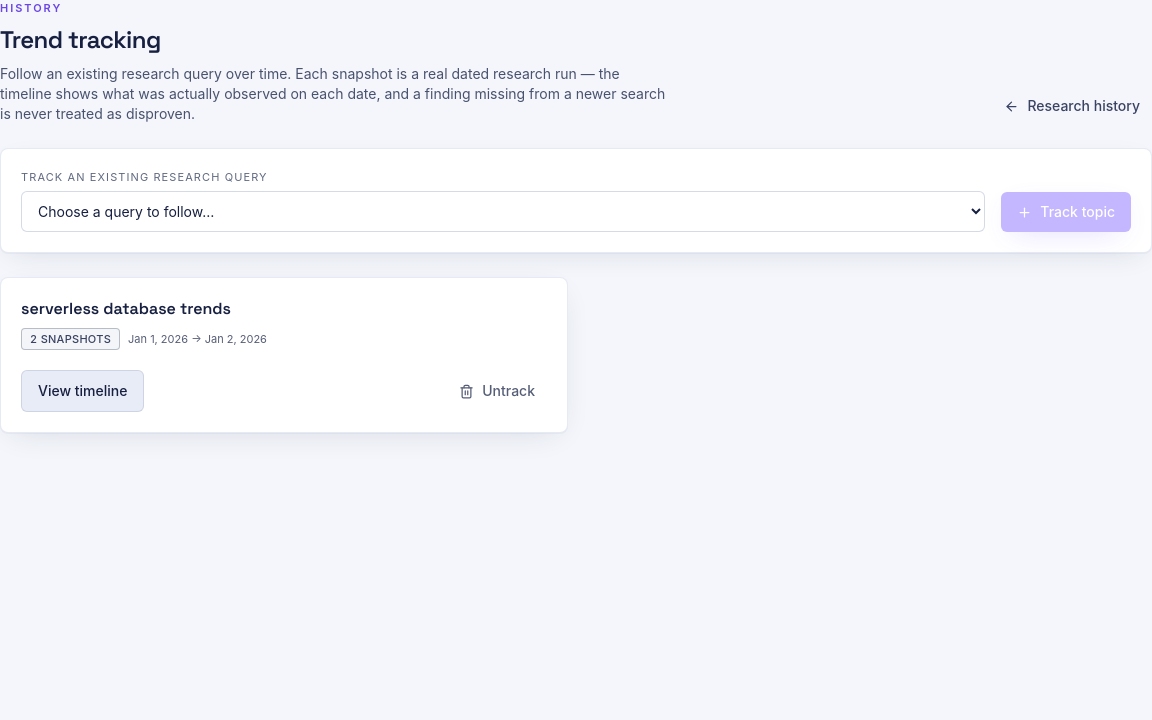
it: Trends page — topic list › deletes a topic after confirmation
Check: the text "serverless database trends" is shown, box [21,298,231,319]
Click the button with aria-label "Stop tracking" at (497, 391), box [447,373,547,409]
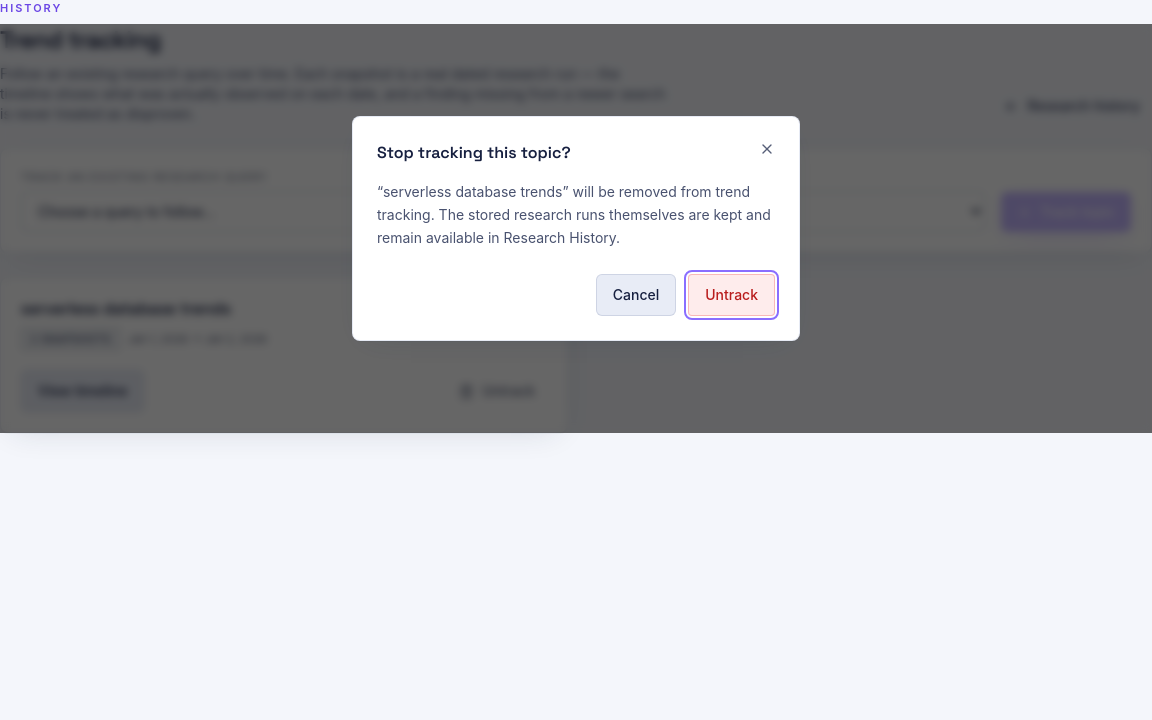
Check: the button "Untrack" is shown
Click the button "Untrack" at (732, 295), box [688,274,775,316]
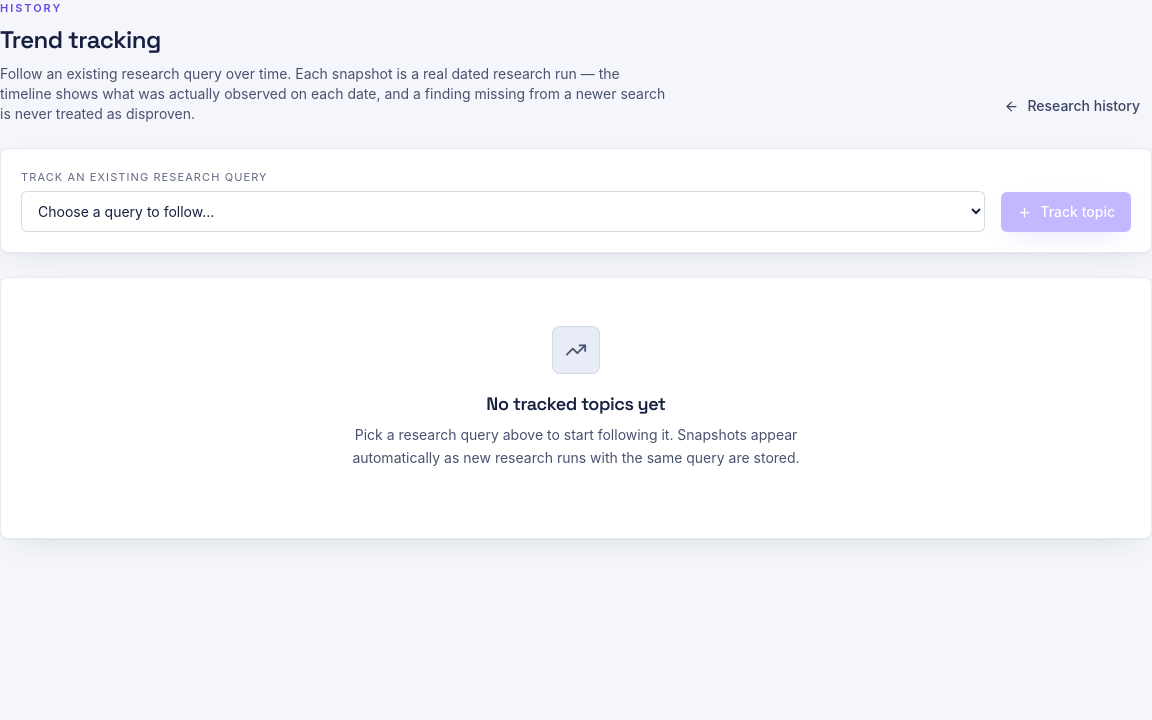
Check: the heading "No tracked topics yet" is shown, box [486,390,666,418]
